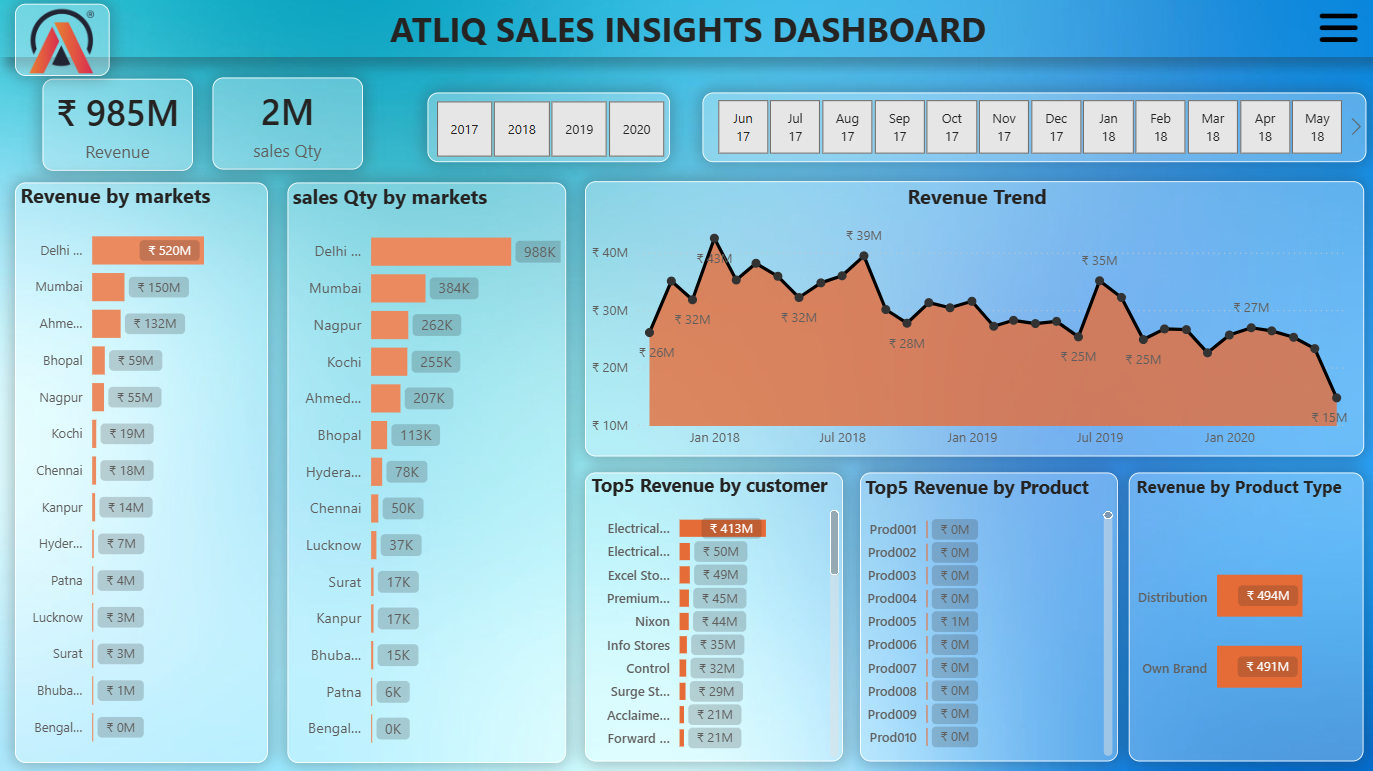

Layout of this report page (visuals, bound fields, positions):
{"tool":"powerbi","page":{"name":"Key Insight","canvas":[1280,720],"ordinal":0},"visuals":[{"type":"textbox","box":[0,0,1280.5,53],"z":0},{"type":"image","box":[1222,2.9,46.8,45.4],"z":1000},{"type":"shape","box":[197.8,72.4,139.9,85.6],"z":6000},{"type":"shape","box":[39.8,73.6,139.9,85.6],"z":7000},{"type":"shape","box":[267.7,170.1,259.3,540.3],"z":8000},{"type":"shape","box":[14.5,170.1,235.2,540.3],"z":9000},{"type":"card","fields":{"Values":["Base Measures 2.Revenue"]},"box":[39.8,73.6,139.9,84.4],"z":10000},{"type":"card","fields":{"Values":["Base Measures 2.sales Qty"]},"box":[197.8,71.2,139.9,86.8],"z":11000},{"type":"shape","box":[14.5,3.6,88,67.5],"z":12000},{"type":"image","box":[14.5,2.4,88,71.2],"z":13000},{"type":"barChart","title":"Revenue by markets","fields":{"Category":["sales markets.markets_name"],"Y":["Base Measures 2.Revenue"]},"box":[14.5,168.8,236.4,540.3],"z":14000},{"type":"barChart","title":"sales Qty by markets","fields":{"Category":["sales markets.markets_name"],"Y":["Base Measures 2.sales Qty"]},"box":[267.7,170.1,259.3,540.3],"z":15000},{"type":"shape","box":[653.7,85.6,617.5,65.1],"z":16000},{"type":"shape","box":[398,85.6,225.5,65.1],"z":17000},{"type":"slicer","fields":{"Values":["sales date.year"]},"box":[379.9,86.8,261.7,65.1],"z":18000},{"type":"slicer","fields":{"Values":["sales date.cy_date"]},"box":[641.6,85.6,630.8,63.9],"z":19000},{"type":"shape","box":[543.9,168.8,724.8,255.7],"z":20000},{"type":"shape","box":[543.9,439,240,268.9],"z":21000},{"type":"shape","box":[799.6,439,240,268.9],"z":22000},{"type":"shape","box":[1050.5,439,218.3,268.9],"z":23000},{"type":"areaChart","title":"Revenue Trend","fields":{"Category":["sales date.cy_date"],"Y":["Base Measures 2.Revenue"]},"box":[545.1,170.1,727.2,255.7],"z":24000},{"type":"barChart","title":"Top5 Revenue by customer","fields":{"Y":["Base Measures 2.Revenue"],"Category":["sales customers.custmer_name"]},"box":[545.1,439,240,270.2],"z":25000},{"type":"barChart","title":"Top5 Revenue by Product","fields":{"Y":["Base Measures 2.Revenue"],"Category":["sales products.product_code"]},"box":[799.6,440.2,240,267.7],"z":26000},{"type":"barChart","title":"Revenue by Product Type","fields":{"Y":["Base Measures 2.Revenue"],"Category":["sales products.product_type"]},"box":[1052.9,440.2,219.5,267.7],"z":27000}]}

Visuals, with their boxes in screenshot pixels (x1, y1, x2, y2), scaled from the page's 1280x720 canvas onto the 1373x771 screenshot:
textbox: x1=0, y1=0, x2=1372, y2=57
image: x1=1311, y1=3, x2=1361, y2=52
shape: x1=212, y1=78, x2=362, y2=169
shape: x1=43, y1=79, x2=193, y2=170
shape: x1=287, y1=182, x2=565, y2=761
shape: x1=16, y1=182, x2=268, y2=761
card - Base Measures 2.Revenue: x1=43, y1=79, x2=193, y2=169
card - Base Measures 2.sales Qty: x1=212, y1=76, x2=362, y2=169
shape: x1=16, y1=4, x2=110, y2=76
image: x1=16, y1=3, x2=110, y2=79
"Revenue by markets" barChart: x1=16, y1=181, x2=269, y2=759
"sales Qty by markets" barChart: x1=287, y1=182, x2=565, y2=761
shape: x1=701, y1=92, x2=1364, y2=161
shape: x1=427, y1=92, x2=669, y2=161
slicer - sales date.year: x1=408, y1=93, x2=688, y2=163
slicer - sales date.cy_date: x1=688, y1=92, x2=1365, y2=160
shape: x1=583, y1=181, x2=1361, y2=455
shape: x1=583, y1=470, x2=841, y2=758
shape: x1=858, y1=470, x2=1115, y2=758
shape: x1=1127, y1=470, x2=1361, y2=758
"Revenue Trend" areaChart: x1=585, y1=182, x2=1365, y2=456
"Top5 Revenue by customer" barChart: x1=585, y1=470, x2=842, y2=759
"Top5 Revenue by Product" barChart: x1=858, y1=471, x2=1115, y2=758
"Revenue by Product Type" barChart: x1=1129, y1=471, x2=1365, y2=758
